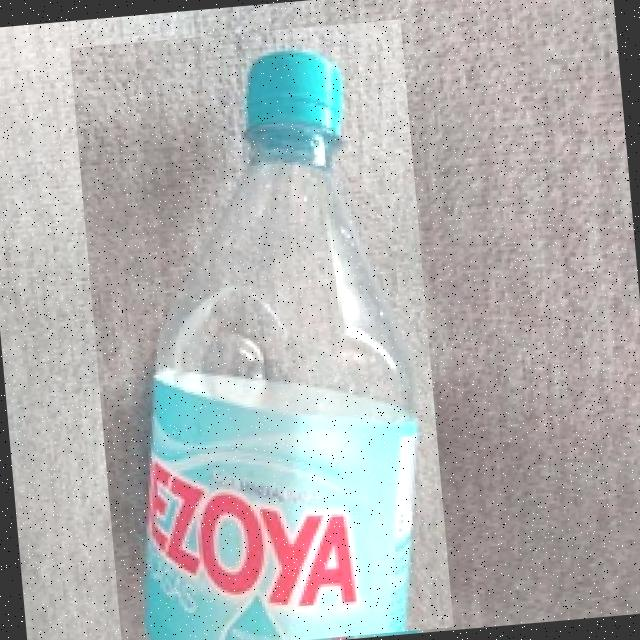bottle: (69, 18, 453, 640)
cap: (234, 45, 356, 141)
label: (131, 392, 441, 632)
